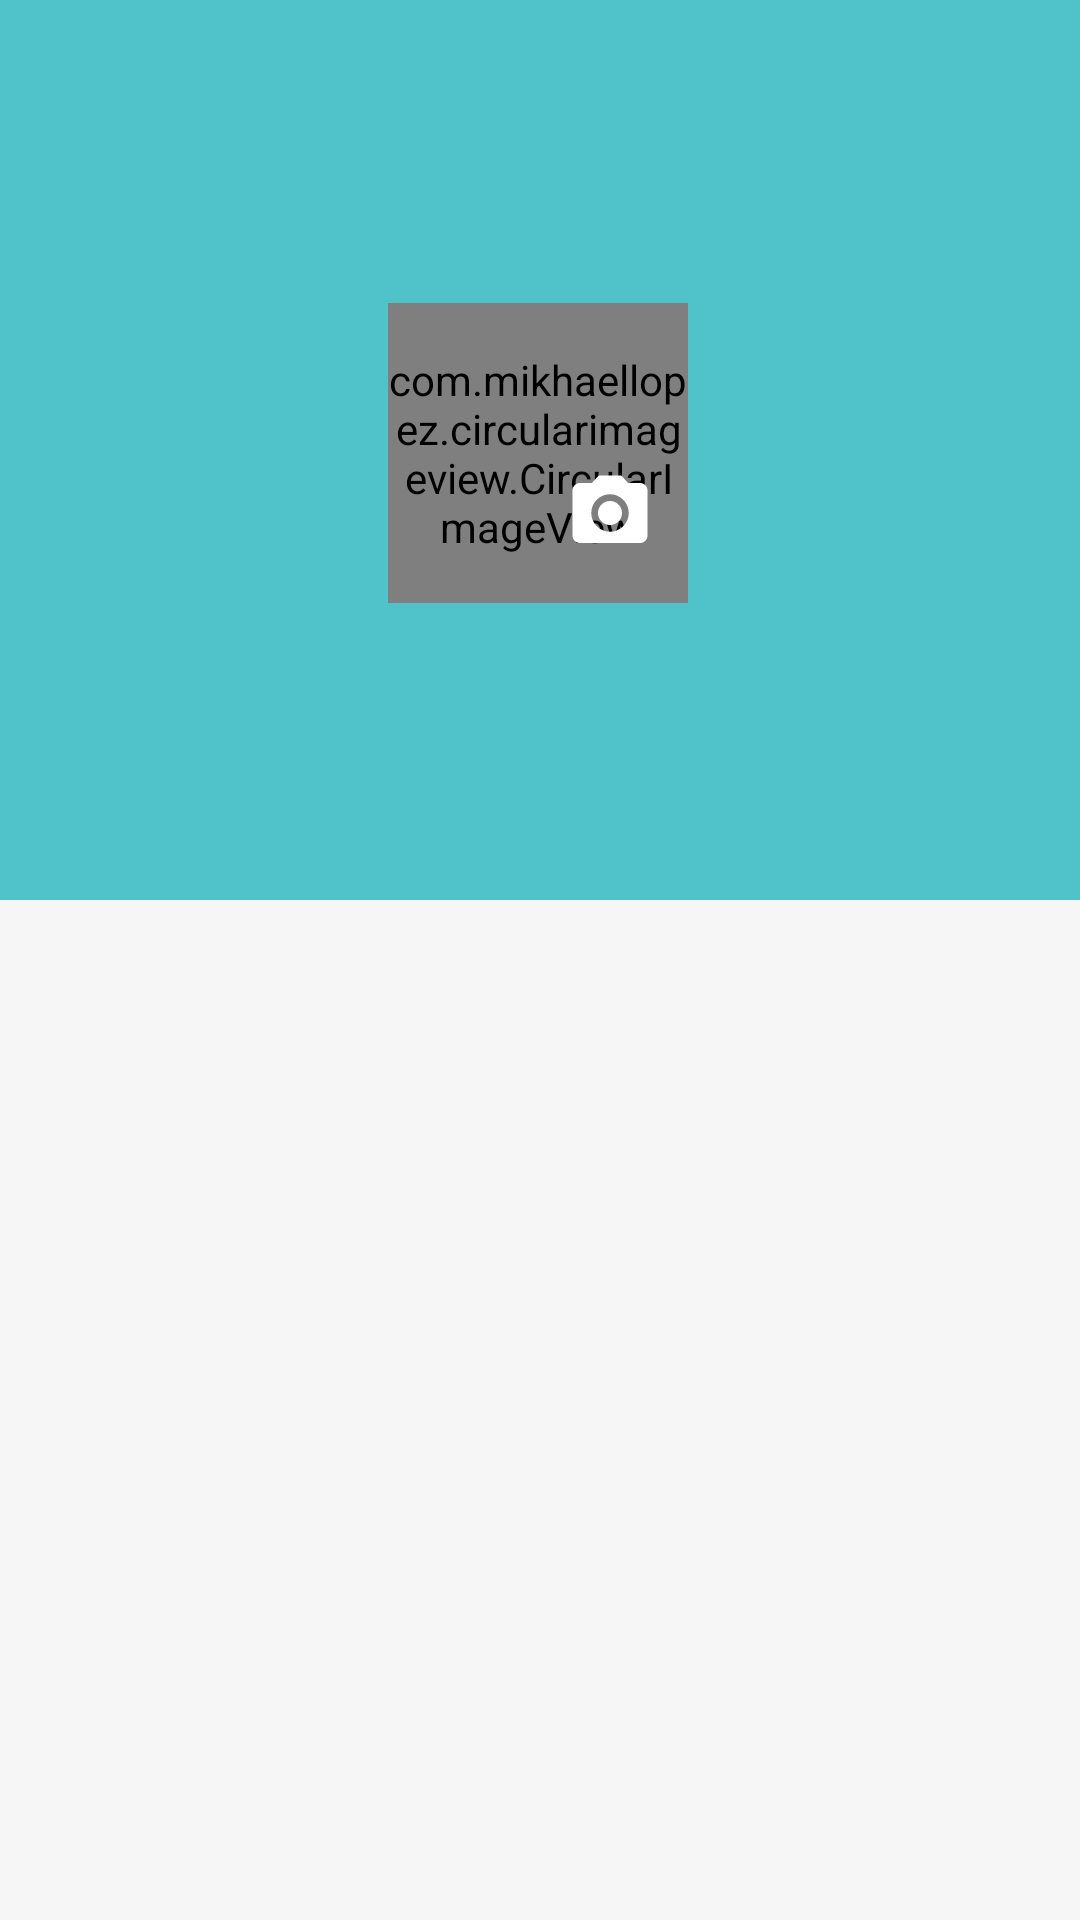

Where to tap for icons on this 1080×1920 app screen, as point (x, y):
cam: point (610, 506)
